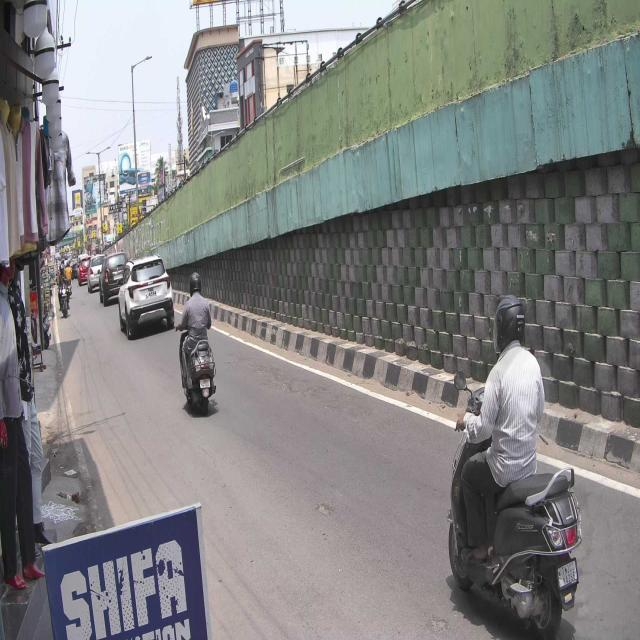single_rider: (446, 294, 584, 633), (175, 270, 217, 418)
